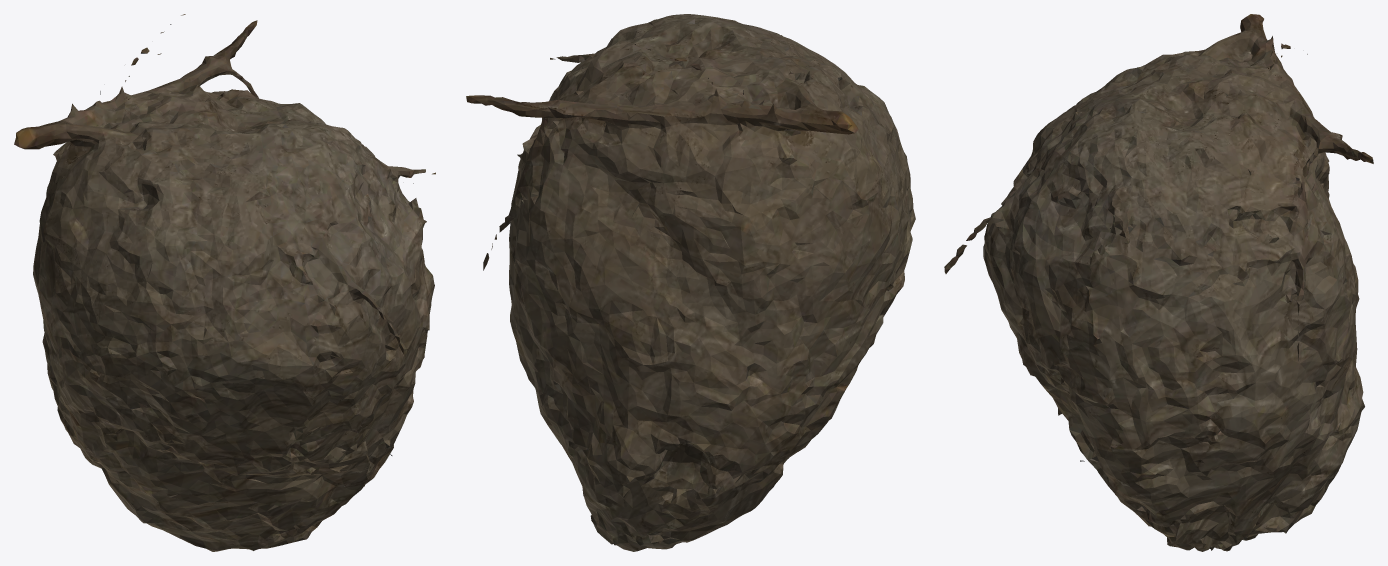
Rendered from waspnest.glb.
3 renders of one model, left to right at view 1: azimuth 30°, elevation 25°; view 2: azimuth 150°, elevation 25°; view 3: azimuth 270°, elevation 25°, orthographic. The views are drawn at different scales.
Visible parts, largest first — view 1: waspnest; view 2: waspnest; view 3: waspnest.
Part boxes in pixels (bbox=[...]): waspnest: bbox=[14, 14, 435, 551]; waspnest: bbox=[466, 14, 915, 551]; waspnest: bbox=[944, 14, 1373, 551].
Size of the model in its own units: 0.7309 by 0.9852 by 0.7858.
Materials: 1 (1 with a texture image).
